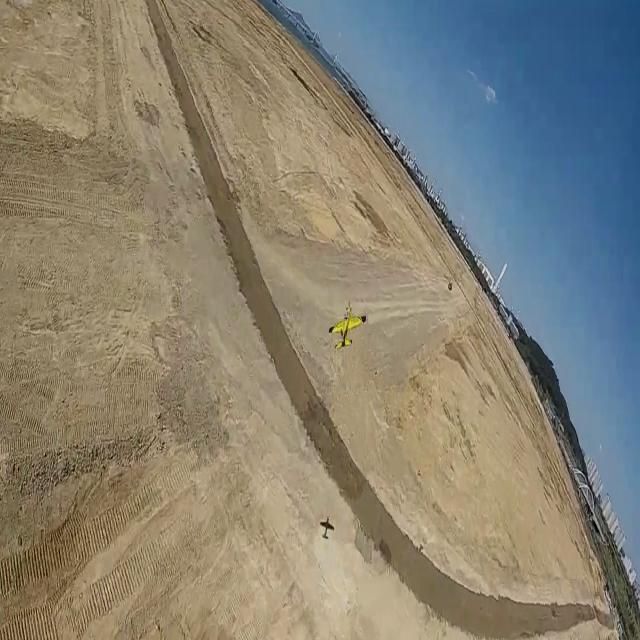iha: (350, 290, 353, 351)
